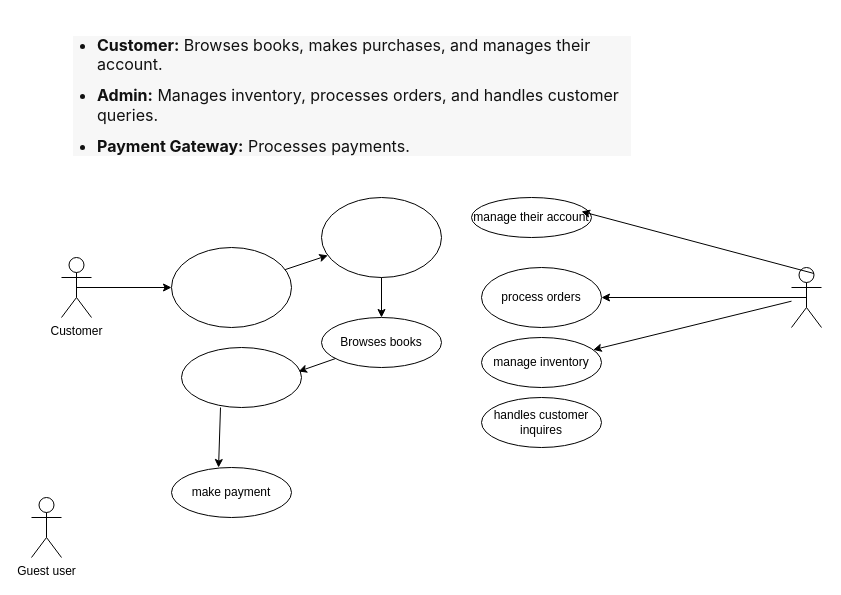
The diagram is 841 pixels wide and 595 high, and some of its shapes have lost their labels. The centre of each missing label's shape, as x and y in pixels:
"Admin" belongs at (x=806, y=297).
"login" belongs at (x=231, y=287).
"make purchase" belongs at (x=241, y=377).
"Registration" belongs at (x=381, y=237).
